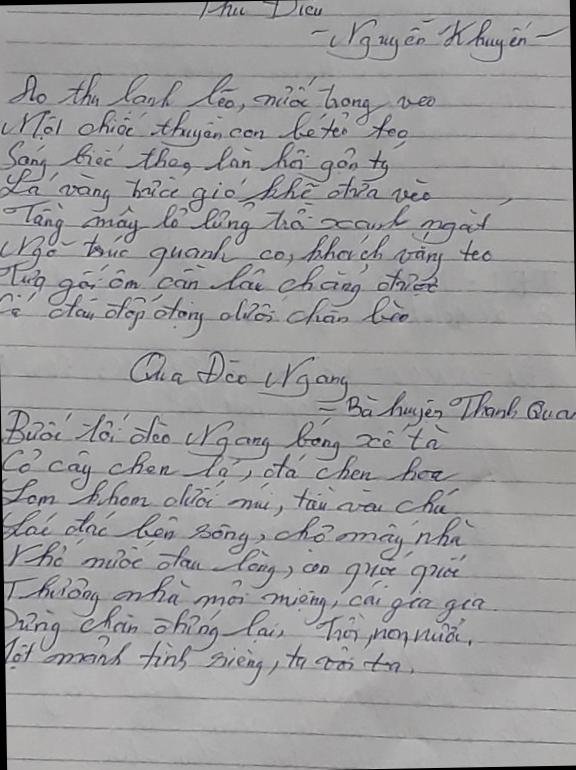text: (3, 562, 487, 634), (0, 187, 516, 254), (3, 529, 468, 602), (0, 222, 495, 290), (2, 499, 480, 568), (5, 63, 439, 135), (1, 398, 450, 466), (4, 594, 474, 657), (0, 247, 441, 314), (4, 624, 418, 693), (2, 465, 462, 525), (1, 437, 460, 493), (0, 158, 432, 217), (0, 283, 412, 344), (0, 129, 390, 190), (0, 99, 411, 153), (306, 10, 570, 68), (126, 343, 349, 409), (314, 383, 576, 430), (181, 0, 343, 24)
